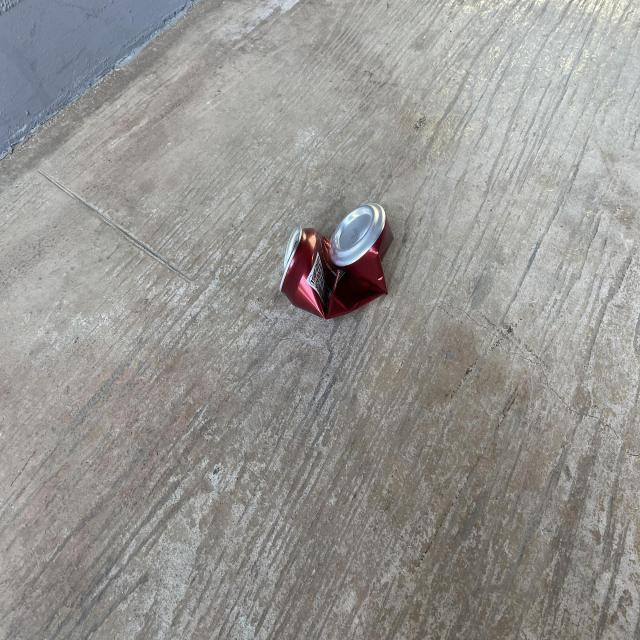can: (280, 203, 394, 318)
